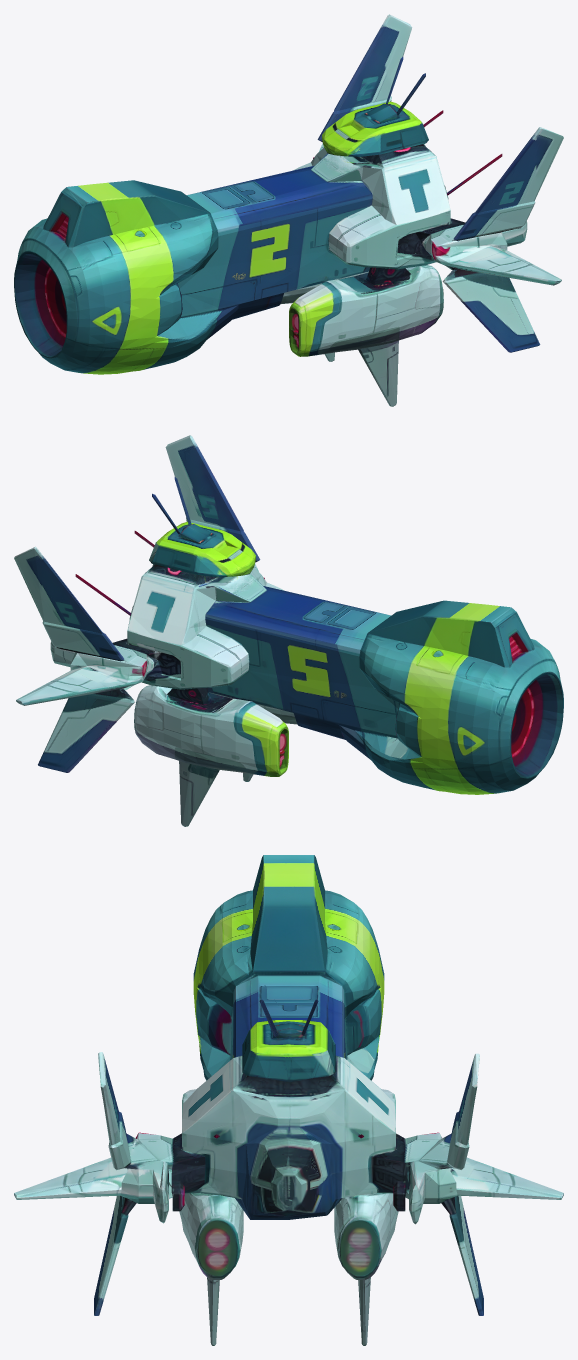
File: Meshy_AI_Neon_Voyager_0630102944_texture.glb
The picture shows the model from 3 angles, top to bottom: view 1: azimuth 30°, elevation 25°; view 2: azimuth 150°, elevation 25°; view 3: azimuth 270°, elevation 25°; orthographic projection. The views are drawn at different scales.
Size of the model in its own units: 1.89 by 1.24 by 1.64.
Materials: 1 (1 with a texture image).
